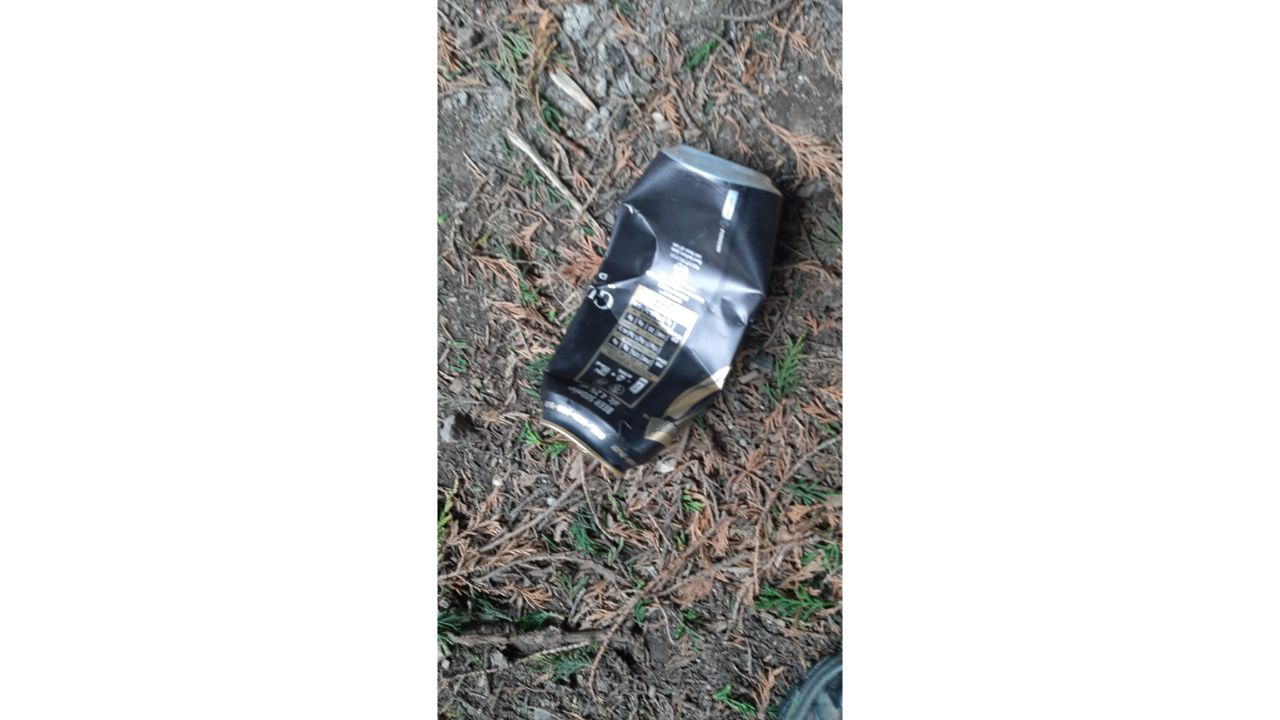Can: (540, 144, 781, 477)
